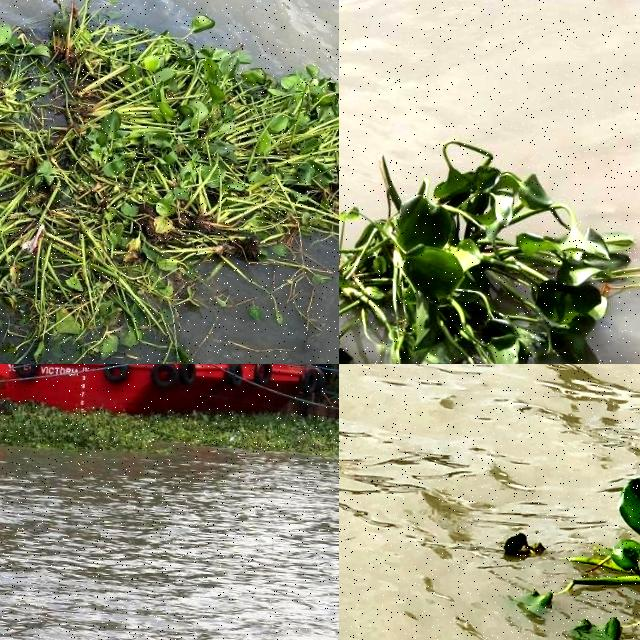water-hyacinth: (1, 1, 340, 365), (340, 124, 640, 365), (1, 379, 340, 492), (498, 383, 640, 640)
